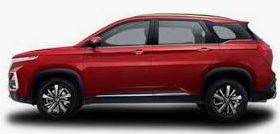car: (5, 11, 277, 123)
